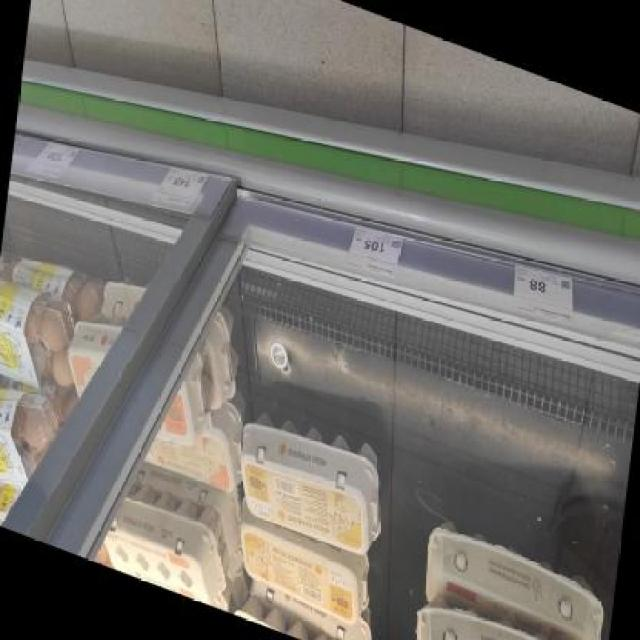Egg: (233, 398, 392, 562), (230, 506, 378, 636), (406, 580, 608, 640)
